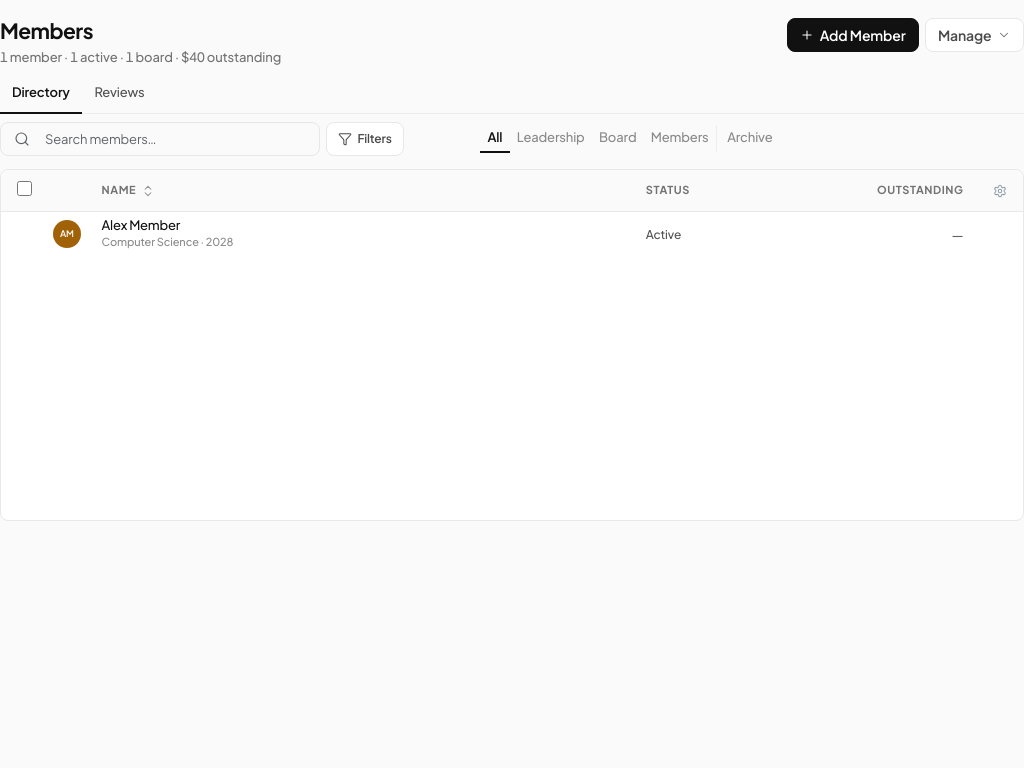
Test: MembersPage › opens Filter drawer without hollow committee/attendance controls
Click the button "Filters".
click(365, 139)  # box [326,122,404,156]
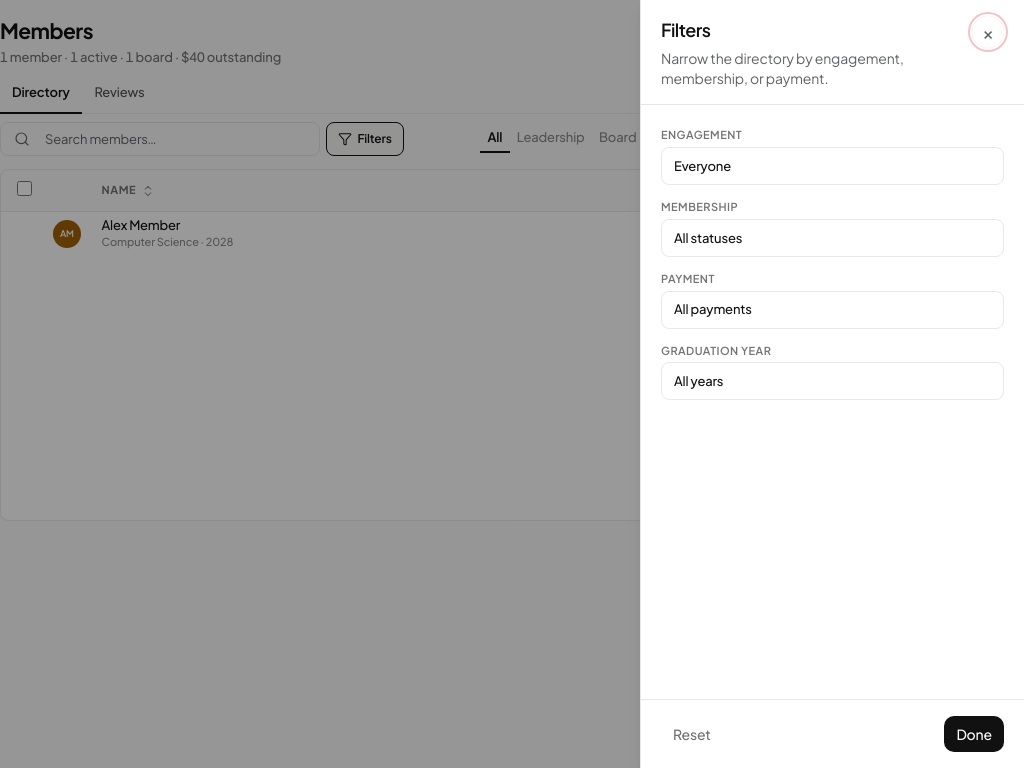
expect the dropdown labelled "Membership" is shown: met, box [661,219,1004,257]
expect the dropdown labelled "Payment" is shown: met, box [661,290,1004,328]
expect the dropdown labelled "Graduation year" is shown: met, box [661,362,1004,400]
